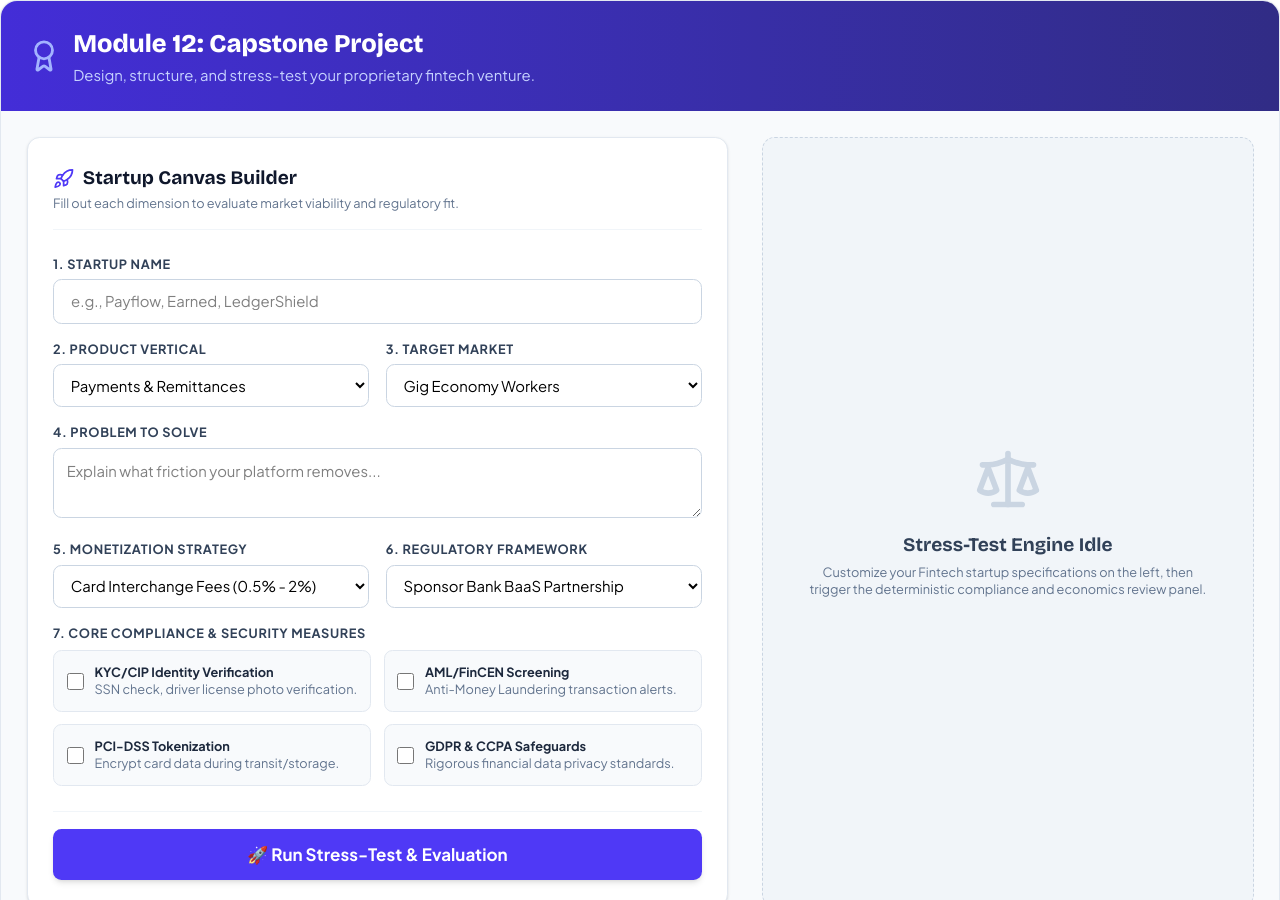
CapstoneCanvas › Evaluation: Payments Vertical › scores payments + AUM as mismatch
Step 1. Type "PayFlow" into the field with placeholder "e.g., Payflow, Earned, LedgerShield" → [377, 301], box [53,279,702,324]
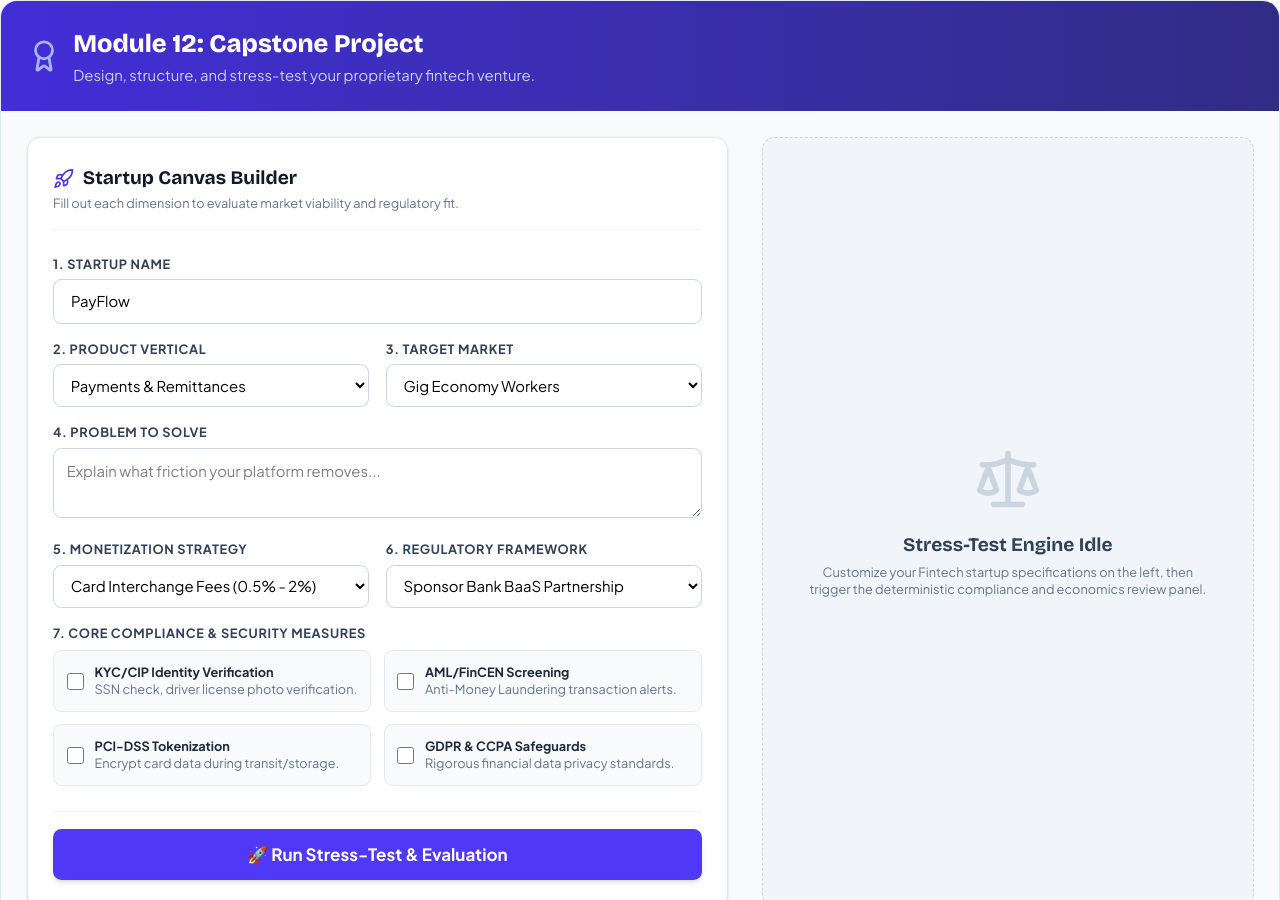
Step 2. Select "Assets Under Management (AUM) Fee" in the dropdown showing "Card Interchange Fees (0.5% - 2%)" below "5. Monetization Strategy" → [211, 586], box [53,564,369,608]
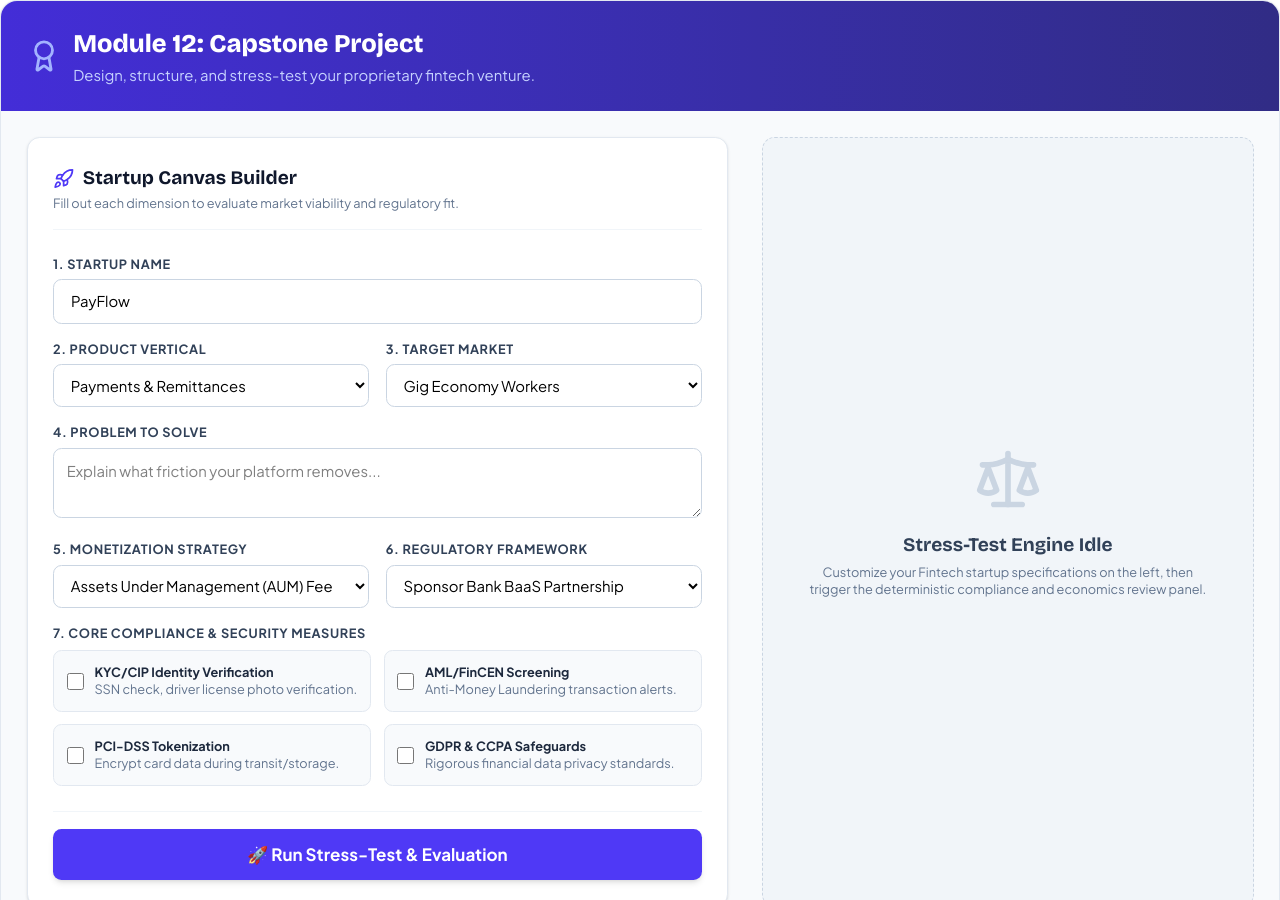
Step 3. Click the button "🚀 Run Stress-Test & Evaluation" → [377, 855], box [53,830,702,880]
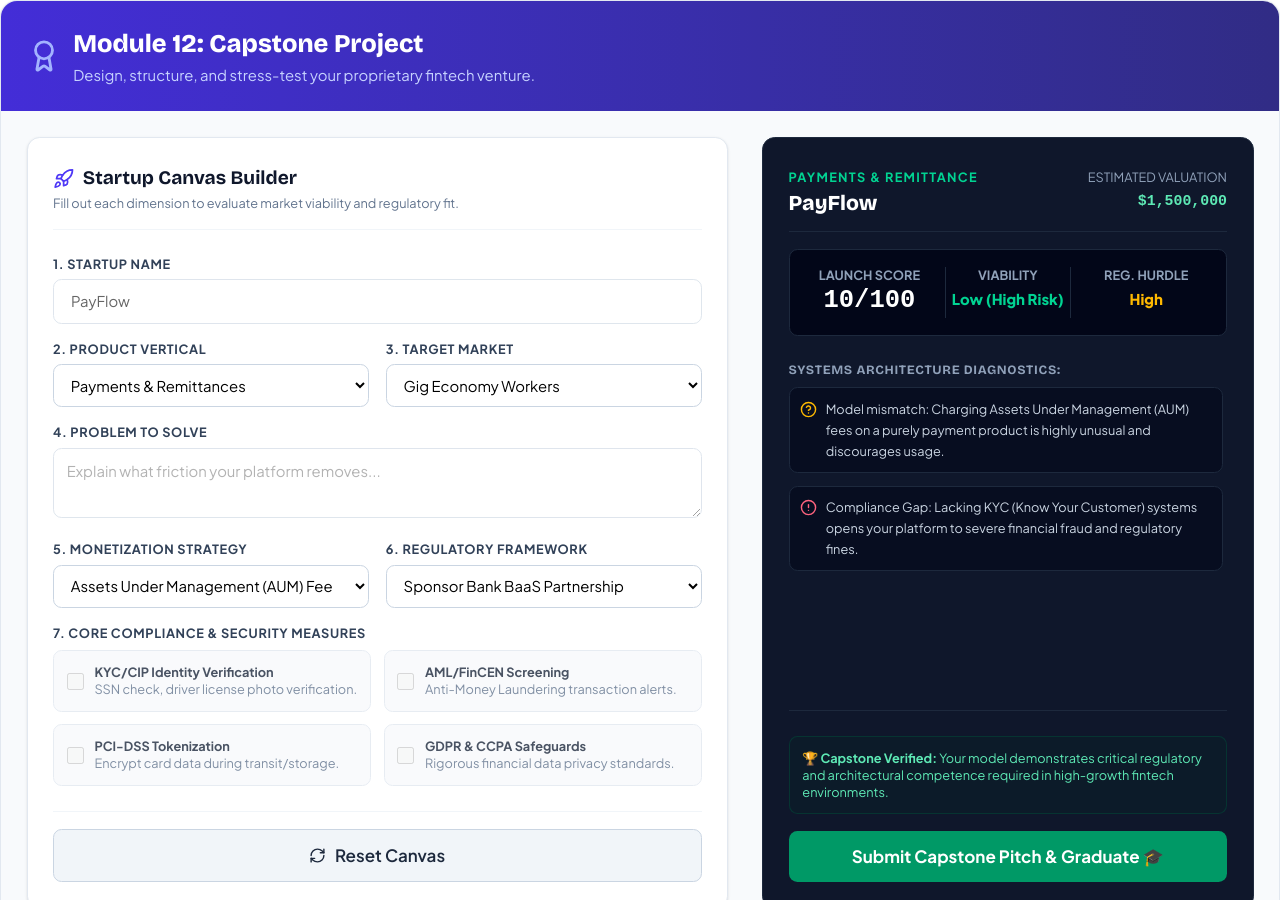
Expected: the text "Model mismatch" is shown, [826,401,1189,458]
